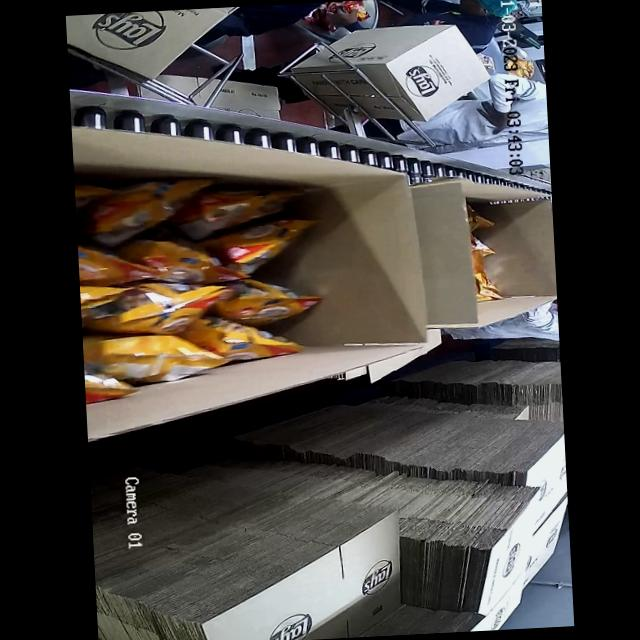cheese: (75, 182, 323, 382), (469, 195, 509, 319)
